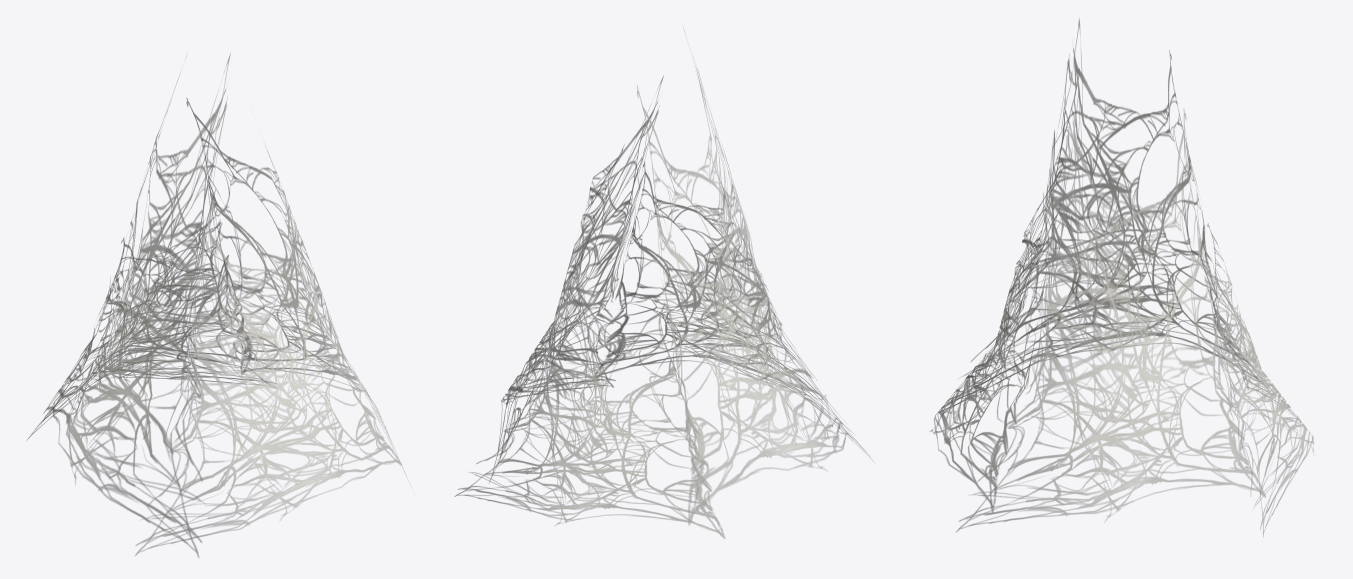
3 views of the same model, side by side, from view 1: azimuth 30°, elevation 25°; view 2: azimuth 150°, elevation 25°; view 3: azimuth 270°, elevation 25° (orthographic). The views are drawn at different scales.
Size of the model in its own units: 3.04 by 3.66 by 3.09.
2 materials, 2 textured.
